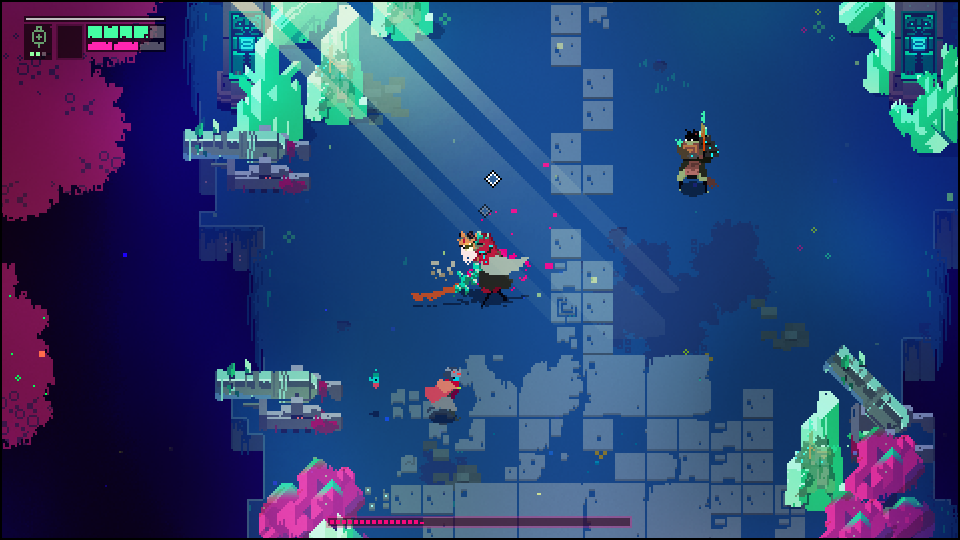hanged_man: (440, 227, 532, 308)
player: (420, 366, 463, 422)
